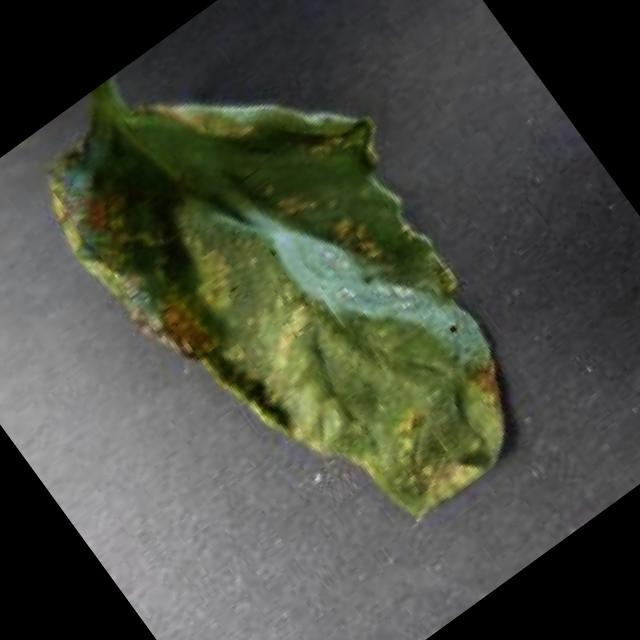Tomato bacterial spot leaf: (0, 0, 598, 619)
